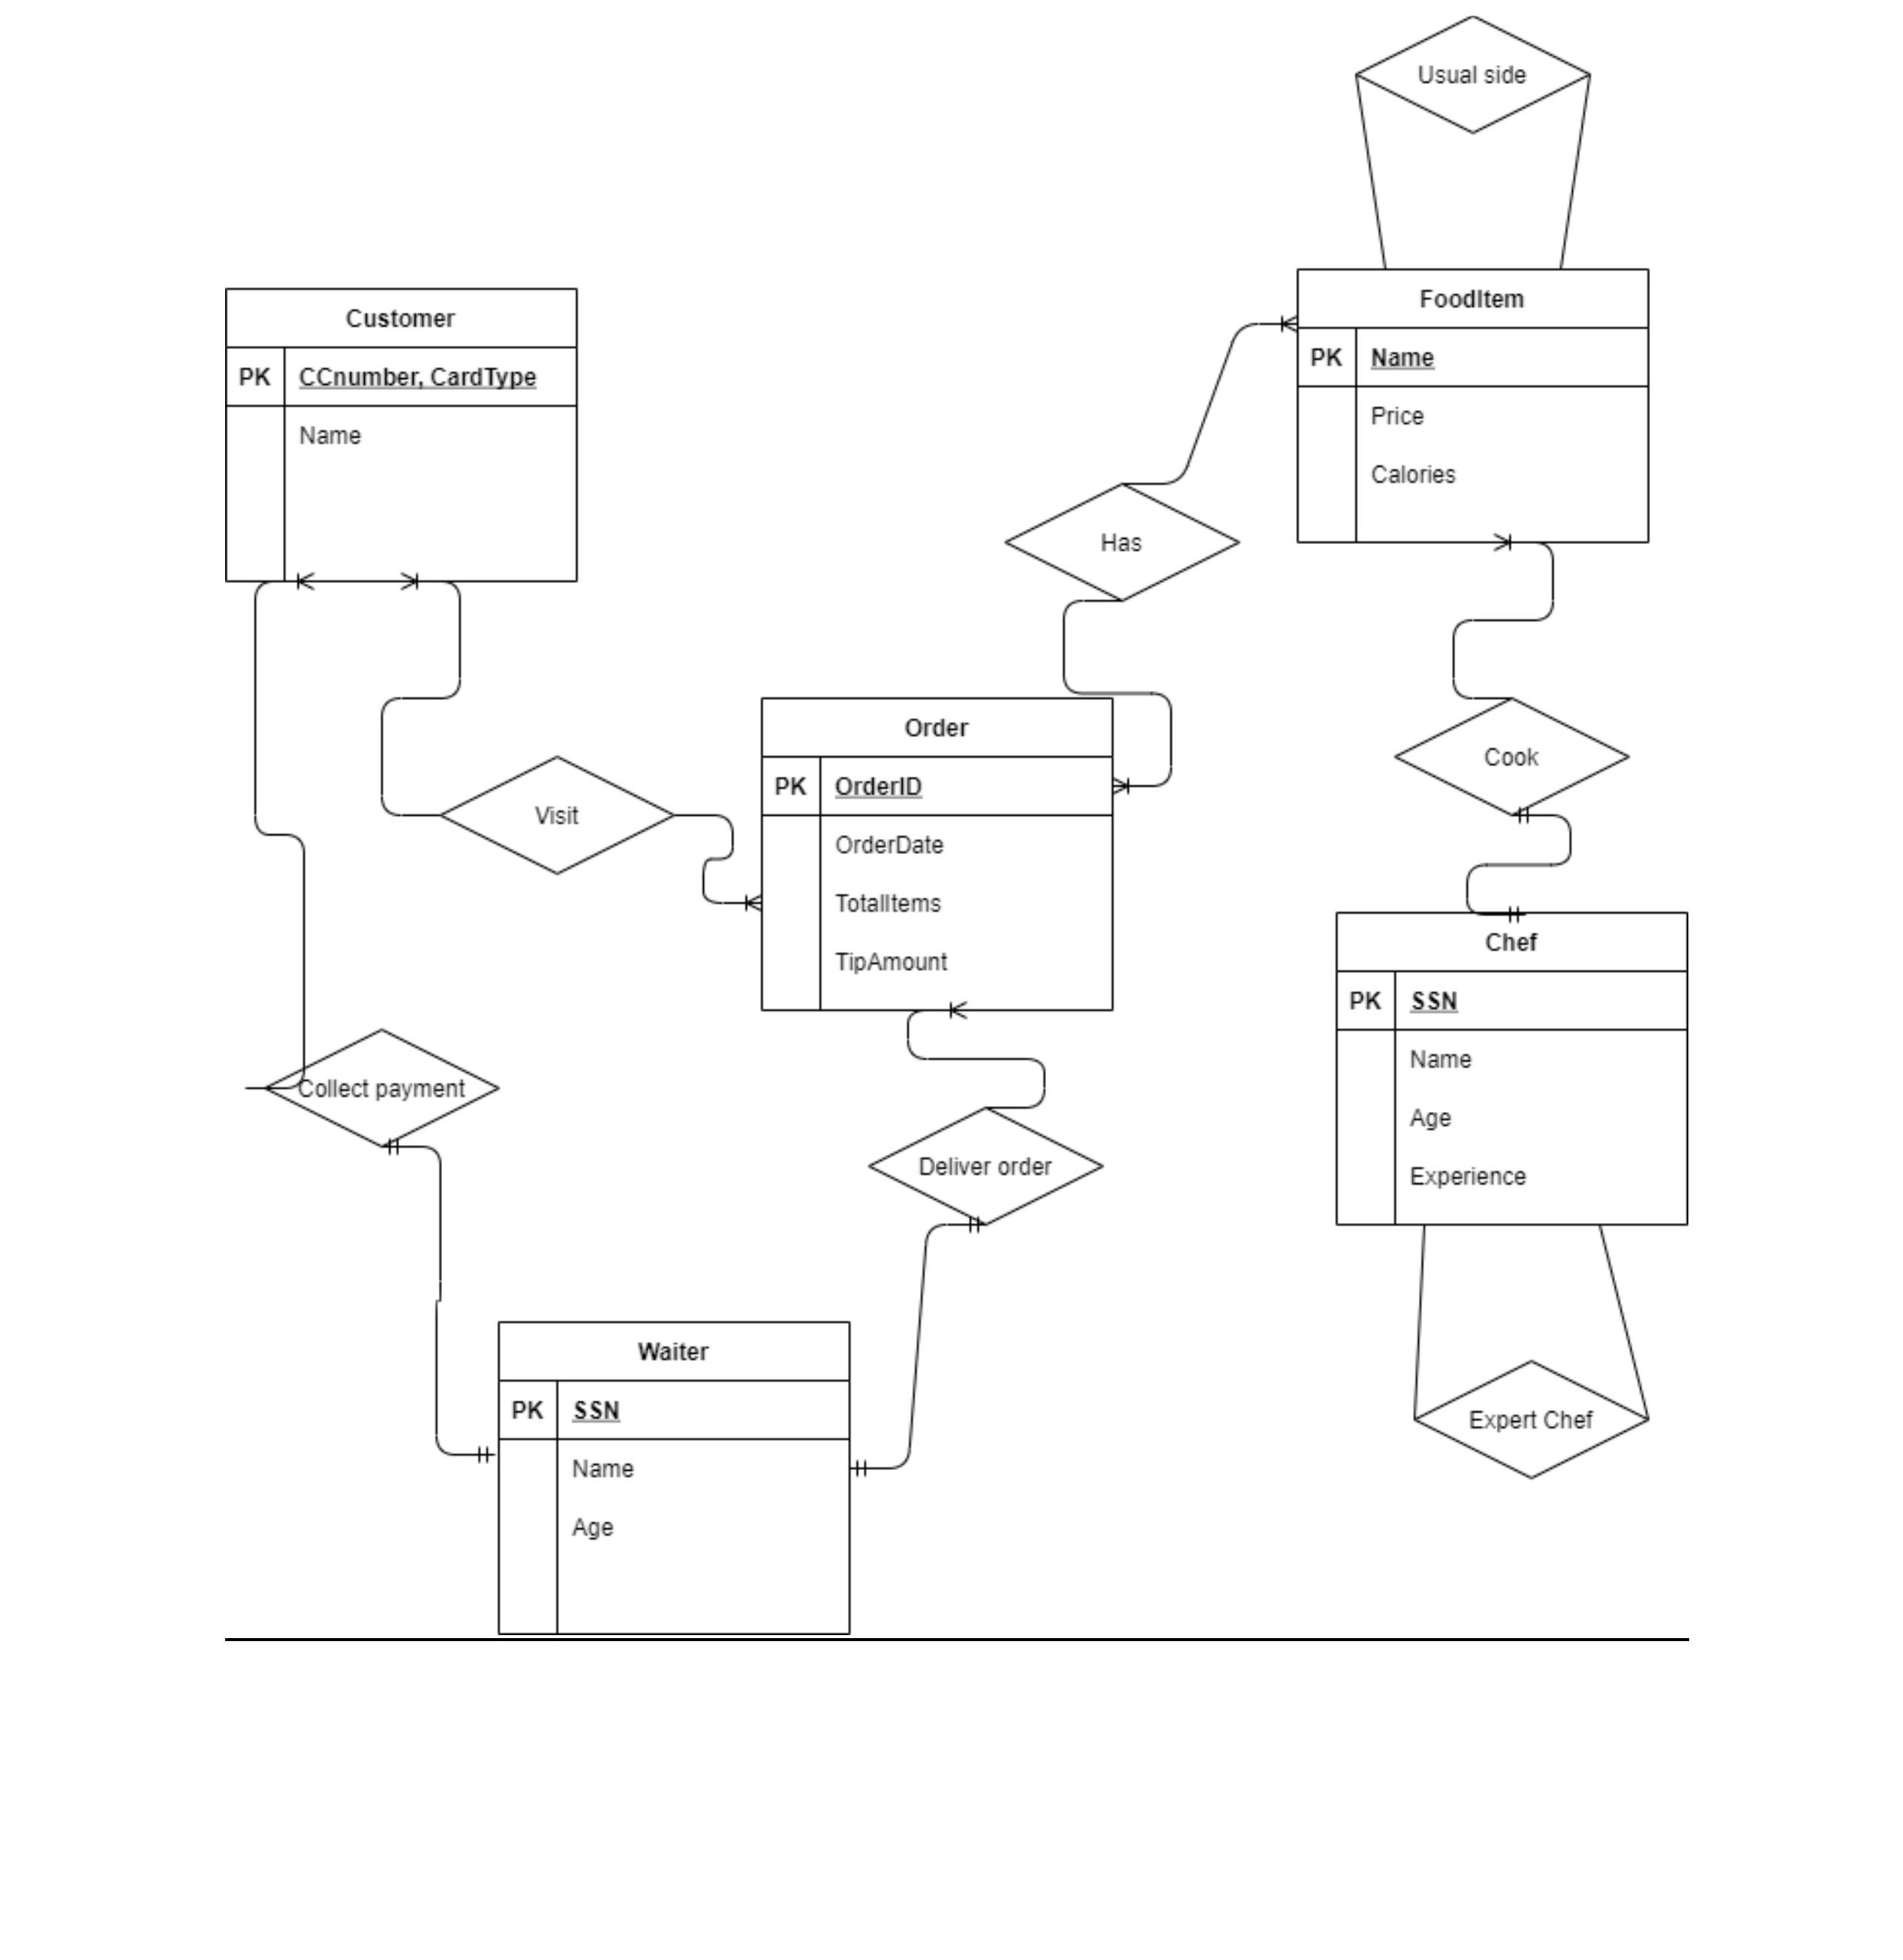Entity: (760, 695, 1115, 1011), (495, 1319, 853, 1634), (1334, 912, 1689, 1227), (224, 285, 579, 584), (1296, 268, 1651, 544)
Relationship: (1003, 481, 1241, 602), (1415, 1362, 1651, 1480), (1353, 16, 1593, 133), (1388, 700, 1633, 814), (439, 756, 672, 873), (867, 1109, 1106, 1221), (270, 1027, 499, 1143)
